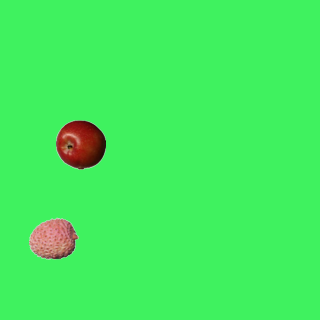Apple Braeburn: (55, 119, 105, 169)
Lychee: (28, 213, 78, 263)
